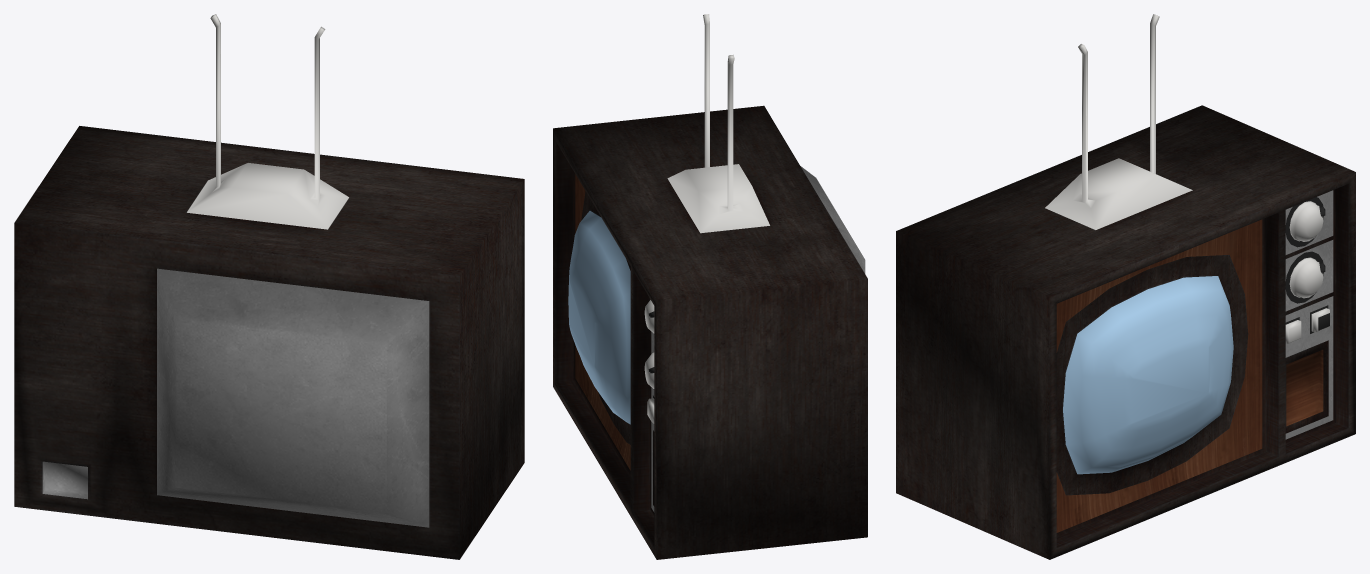
3 views of the same model, side by side, from view 1: azimuth 30°, elevation 25°; view 2: azimuth 150°, elevation 25°; view 3: azimuth 270°, elevation 25° (orthographic). The views are drawn at different scales.
Visible parts, largest first — view 1: TVObject; view 2: TVObject; view 3: TVObject.
Part boxes in pixels (x1,y1,x2,y2): TVObject: (14,14,524,559); TVObject: (553,14,867,559); TVObject: (896,14,1355,559).
Bounding box in the file's own units: 43.58 × 45.52 × 43.97.
